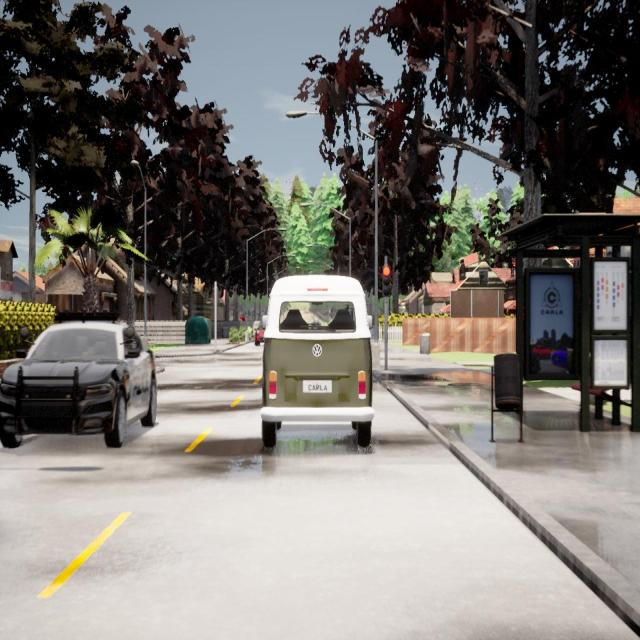Vehicle: (261, 274, 375, 446), (0, 322, 156, 446), (255, 321, 265, 346)
traffic_light: (382, 266, 390, 296)
